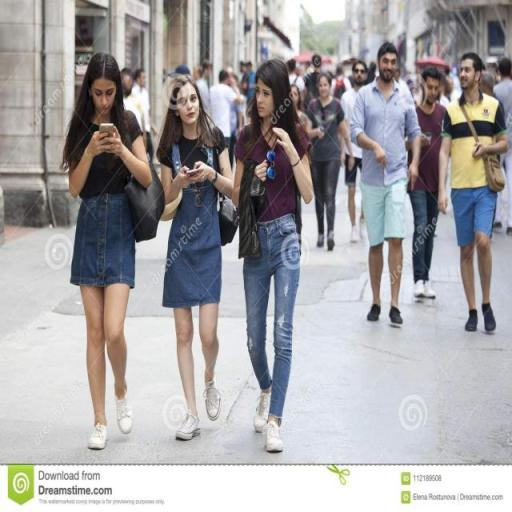person: (66, 53, 153, 451), (237, 60, 316, 459), (161, 76, 238, 449), (348, 40, 425, 328), (447, 55, 508, 339), (412, 74, 449, 303), (307, 71, 352, 254), (341, 65, 376, 243), (494, 56, 512, 238)
